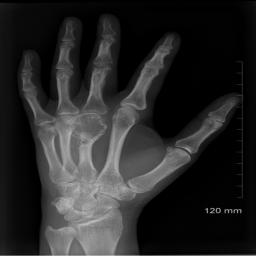cancer: (67, 115, 103, 149)
